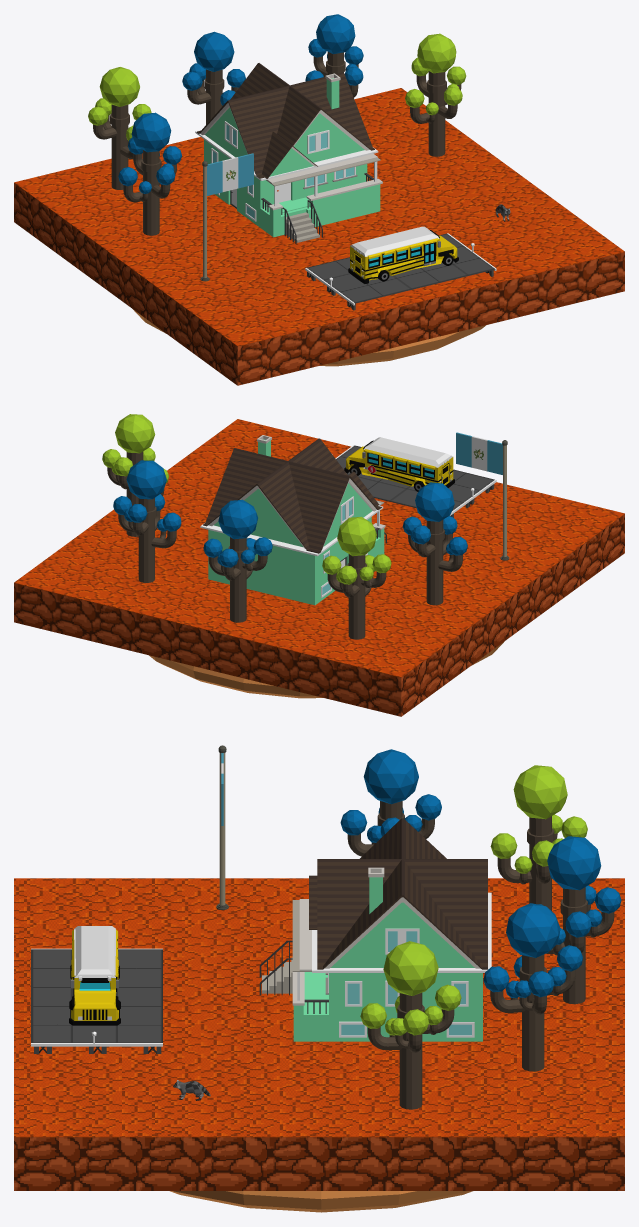
The picture shows the model from 3 angles, top to bottom: view 1: azimuth 30°, elevation 25°; view 2: azimuth 150°, elevation 25°; view 3: azimuth 270°, elevation 25°; orthographic projection. The views are drawn at different scales.
Visible parts, largest first — view 1: Cube.001, Cube.352, VEHICLES_SCHOOL_BUS, OBJRANDOM_GUATEMALAN_FLAG, UNDERGROUND_PIZZA; view 2: Cube.001, Cube.352, VEHICLES_SCHOOL_BUS, OBJRANDOM_GUATEMALAN_FLAG, UNDERGROUND_PIZZA; view 3: Cube.001, Cube.352, VEHICLES_SCHOOL_BUS, UNDERGROUND_PIZZA, OBJRANDOM_GUATEMALAN_FLAG.
Boxes of the visible parts, box(x1,y1,x2,y2) form: Cube.001: box(14, 14, 624, 385); Cube.352: box(195, 63, 382, 243); VEHICLES_SCHOOL_BUS: box(348, 226, 458, 283); OBJRANDOM_GUATEMALAN_FLAG: box(200, 153, 253, 281); UNDERGROUND_PIZZA: box(133, 309, 485, 366); Cube.001: box(14, 414, 624, 716); Cube.352: box(200, 435, 386, 605); VEHICLES_SCHOOL_BUS: box(344, 437, 454, 491); OBJRANDOM_GUATEMALAN_FLAG: box(456, 432, 509, 560); UNDERGROUND_PIZZA: box(149, 641, 504, 698); Cube.001: box(14, 749, 624, 1190); Cube.352: box(259, 818, 491, 1041); VEHICLES_SCHOOL_BUS: box(69, 926, 120, 1025); UNDERGROUND_PIZZA: box(170, 1191, 472, 1212); OBJRANDOM_GUATEMALAN_FLAG: box(216, 745, 228, 909).
Size of the model in its own units: 4000 by 1875 by 4000.
Materials: 44 (4 with a texture image).
